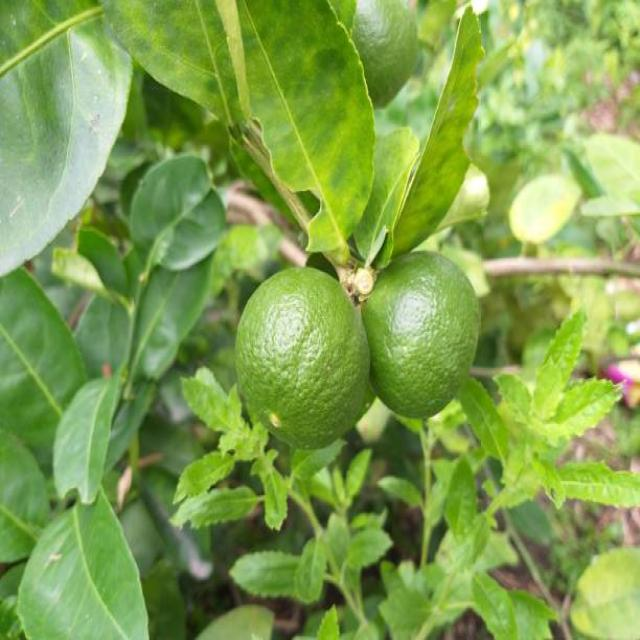Unripe: (236, 264, 368, 447), (364, 250, 479, 417)
